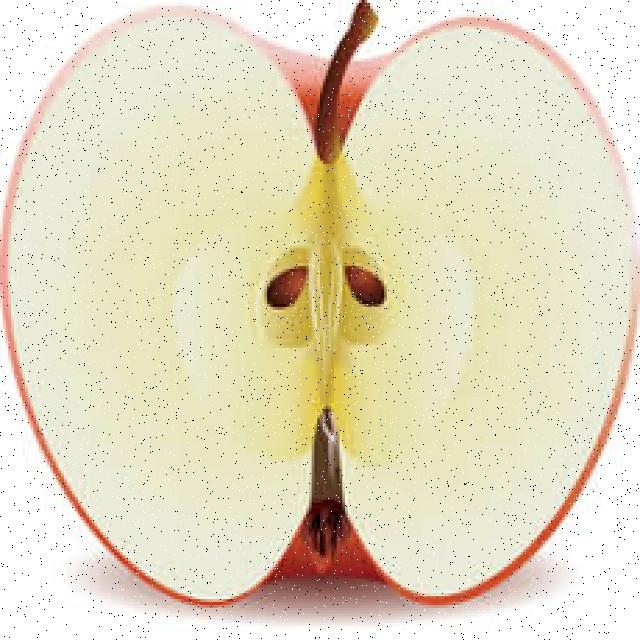Apple: (4, 3, 635, 606)
